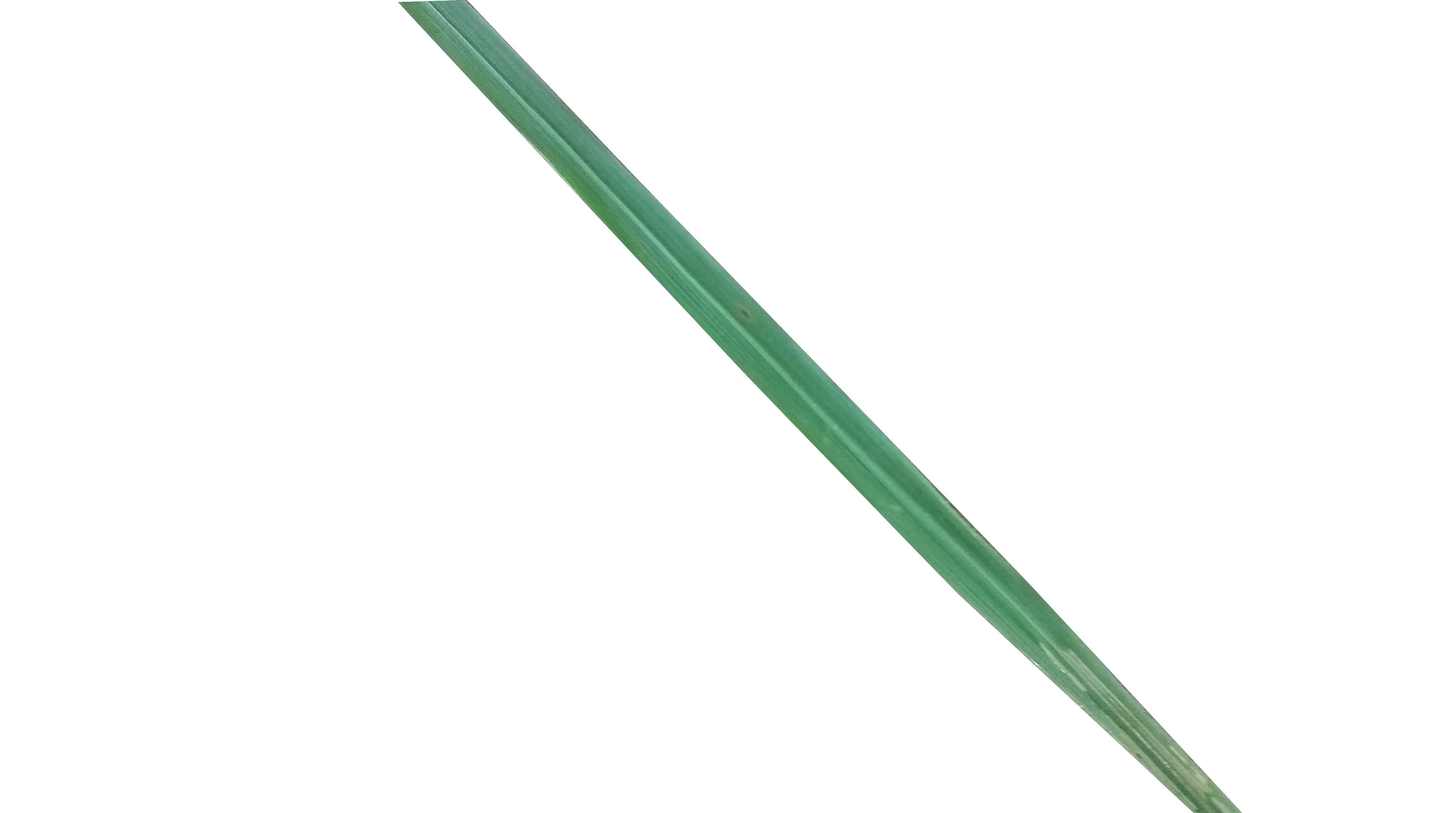Brown spot: (732, 300, 751, 331)
